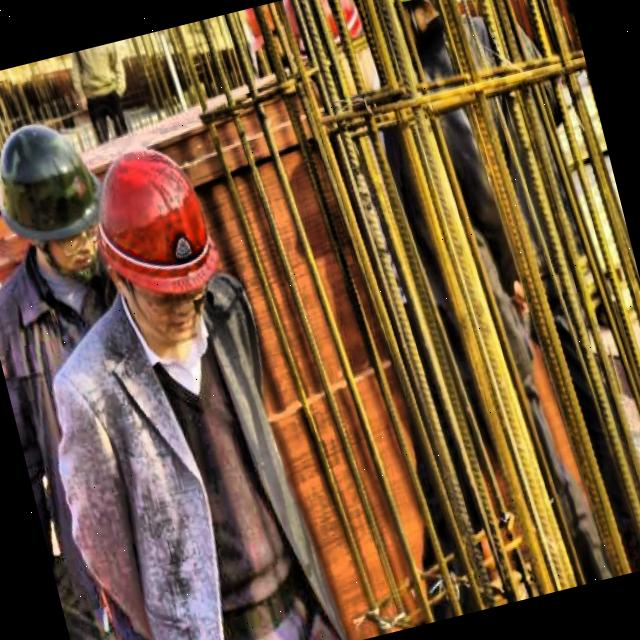helmet: (74, 130, 235, 358), (0, 105, 117, 287), (241, 0, 384, 131)
